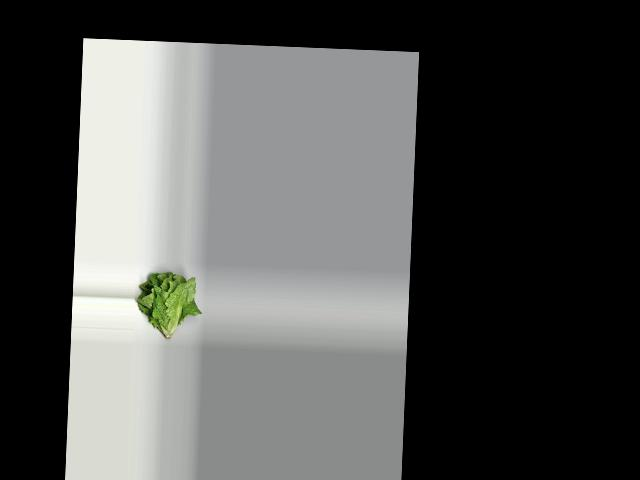lettuce: (131, 267, 201, 345)
